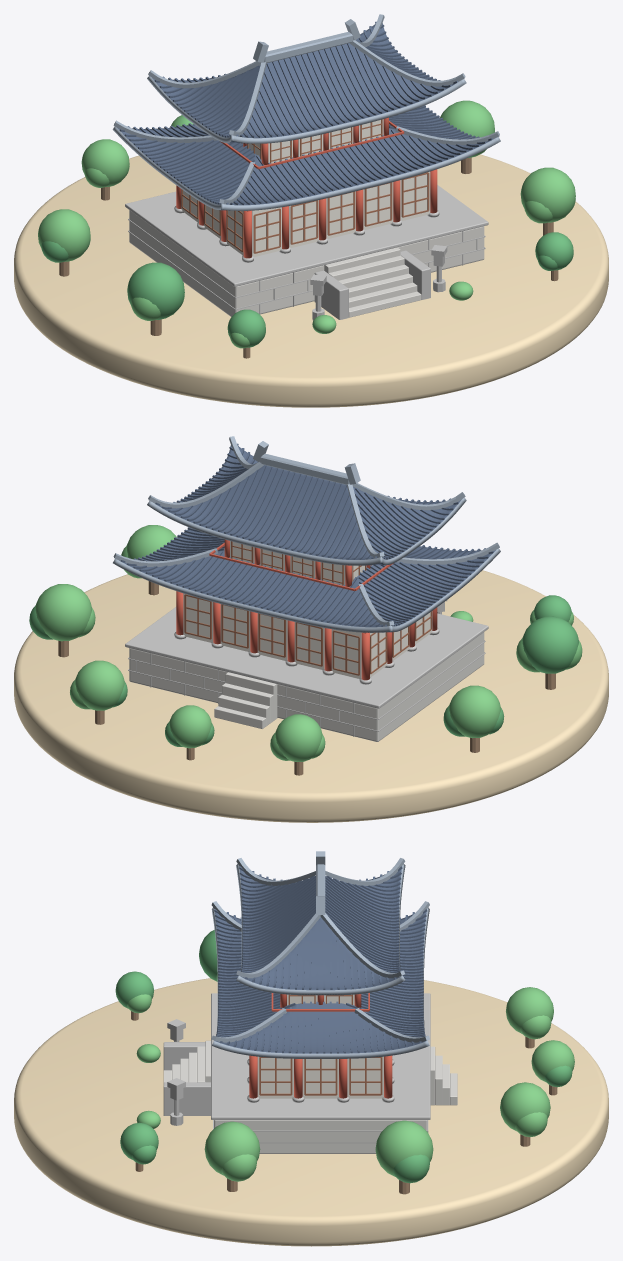
The model's file is beomeosa.glb.
The picture shows the model from 3 angles, top to bottom: view 1: azimuth 30°, elevation 25°; view 2: azimuth 150°, elevation 25°; view 3: azimuth 270°, elevation 25°; orthographic projection.
Parts seen in each view (by area): view 1: BE_Base, BE_Roof2, BE_Roof1Tiles, BE_PlatCap, BE_Roof2Tiles, BE_Roof1, BE_Plat, BE_Ridge2_Hips, BE_Tree, BE_Tree.003, BE_Tree.006, BE_Ridge1_Hips (+19 smaller); view 2: BE_Base, BE_Roof2, BE_Roof1Tiles, BE_PlatCap, BE_Roof2Tiles, BE_Roof1, BE_Plat, BE_Tree, BE_Tree.009, BE_Ridge2_Hips, BE_Tree.006, BE_Tree.015 (+15 smaller); view 3: BE_Base, BE_Roof2Tiles, BE_Roof1Tiles, BE_PlatCap, BE_Roof1, BE_Roof2, BE_Plat, BE_Ridge2_Hips, BE_Tree.009, BE_Tree.003, BE_Tree.015, BE_Ridge1_Hips (+14 smaller).
Boxes of the visible parts, x1,y1,x2,y2 form: BE_Base: (14, 154, 608, 407); BE_Roof2: (147, 23, 466, 143); BE_Roof1Tiles: (119, 105, 492, 205); BE_PlatCap: (125, 185, 488, 286); BE_Roof2Tiles: (154, 21, 458, 137); BE_Roof1: (112, 107, 500, 210); BE_Plat: (129, 210, 484, 316); BE_Ridge2_Hips: (148, 14, 465, 136); BE_Tree: (127, 262, 184, 319); BE_Tree.003: (520, 167, 575, 222); BE_Tree.006: (38, 209, 90, 261); BE_Ridge1_Hips: (113, 120, 499, 204); BE_Base: (14, 570, 608, 822); BE_Roof2: (147, 445, 466, 565); BE_Roof1Tiles: (120, 527, 493, 626); BE_PlatCap: (125, 607, 488, 708); BE_Roof2Tiles: (155, 443, 458, 559); BE_Roof1: (113, 529, 500, 632); BE_Plat: (129, 632, 484, 741); BE_Tree: (522, 616, 578, 673); BE_Tree.009: (35, 584, 91, 641); BE_Ridge2_Hips: (148, 436, 465, 558); BE_Tree.006: (449, 685, 500, 738); BE_Tree.015: (75, 660, 124, 710); BE_Base: (14, 978, 608, 1246); BE_Roof2Tiles: (239, 866, 402, 989); BE_Roof1Tiles: (214, 909, 427, 1053); BE_PlatCap: (211, 993, 430, 1119); BE_Roof1: (211, 907, 429, 1058); BE_Roof2: (236, 864, 405, 995); BE_Plat: (214, 1120, 427, 1153); BE_Ridge2_Hips: (236, 858, 405, 978); BE_Tree.009: (375, 1120, 433, 1176); BE_Tree.003: (204, 1121, 260, 1175); BE_Tree.015: (500, 1082, 550, 1131); BE_Ridge1_Hips: (211, 901, 429, 1042).
Size of the model in its own units: 6.4 by 2.96 by 6.4.
